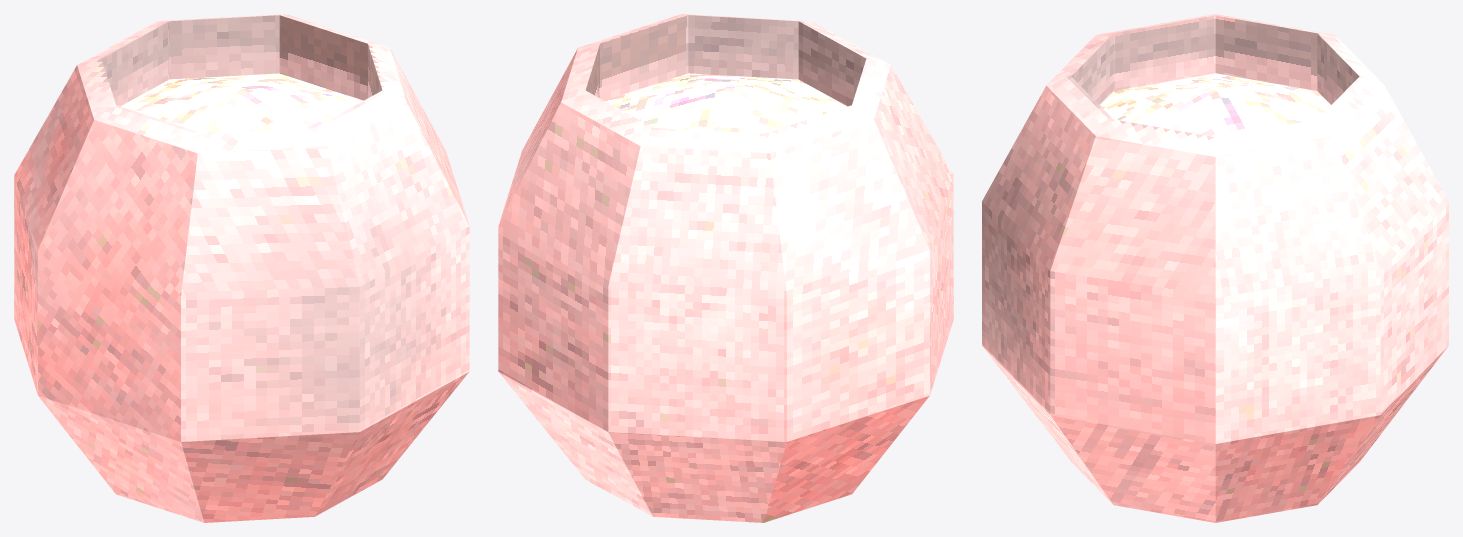
Rendered from Basket_Var2.glb.
The picture shows the model from 3 angles, left to right: view 1: azimuth 30°, elevation 25°; view 2: azimuth 150°, elevation 25°; view 3: azimuth 270°, elevation 25°; orthographic projection.
Visible parts, largest first — view 1: Basket_Variant_2; view 2: Basket_Variant_2; view 3: Basket_Variant_2.
Boxes of the visible parts, left/top/right/bottom form: Basket_Variant_2: left=14, top=14, right=469, bottom=522; Basket_Variant_2: left=498, top=14, right=953, bottom=522; Basket_Variant_2: left=982, top=14, right=1448, bottom=522.
Bounding box in the file's own units: 1.9 × 1.73 × 1.9.
